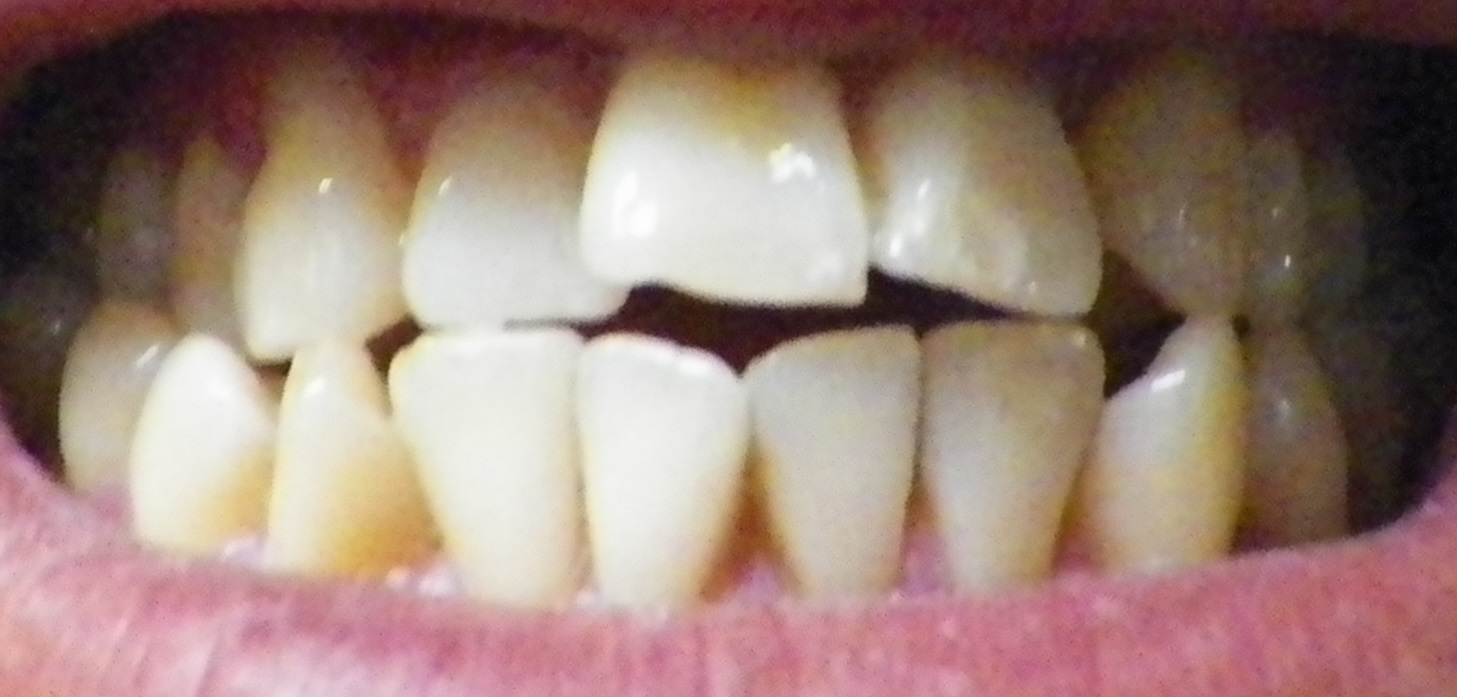boca: (18, 70, 1432, 591)
